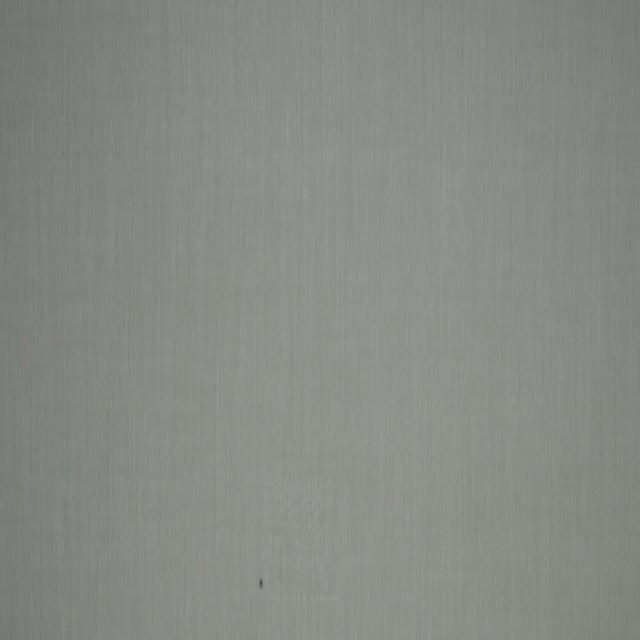dirty: (258, 575, 264, 591)
